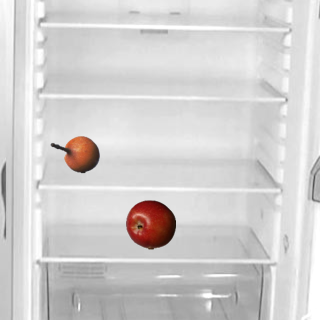Apple Braeburn: (125, 199, 175, 249)
Granadilla: (49, 129, 99, 179)
